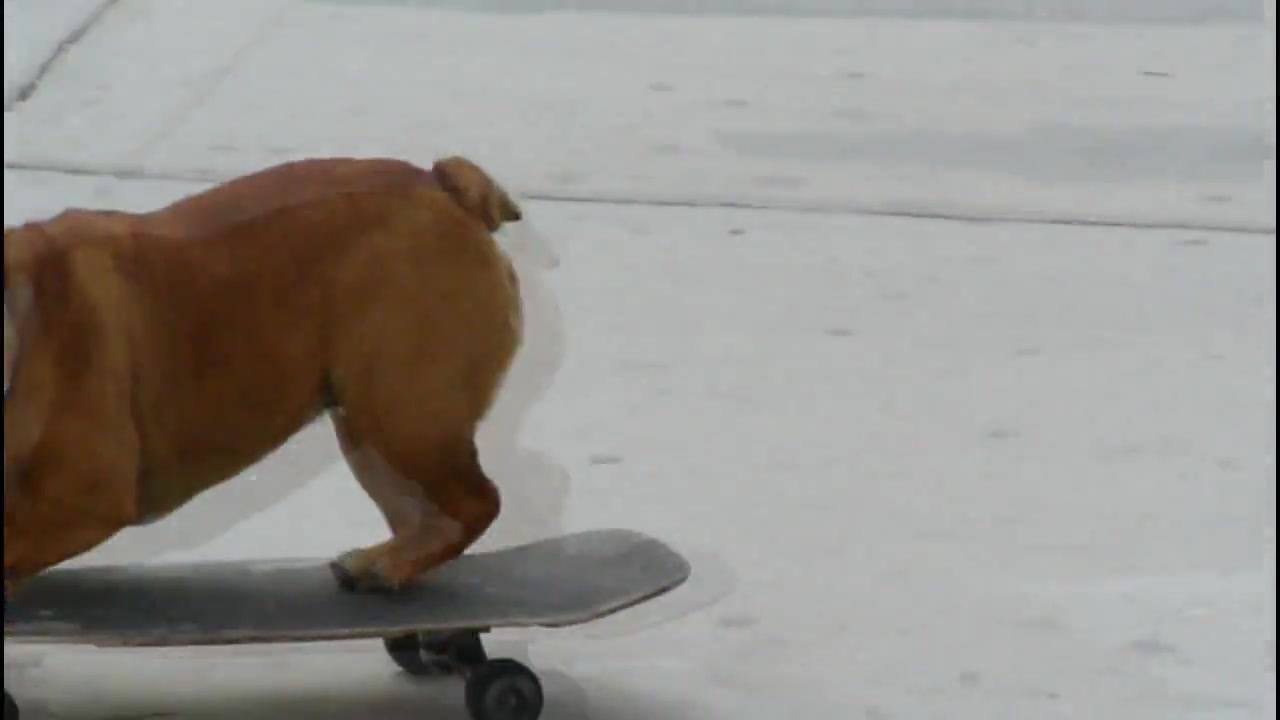dog: (2, 150, 528, 597)
